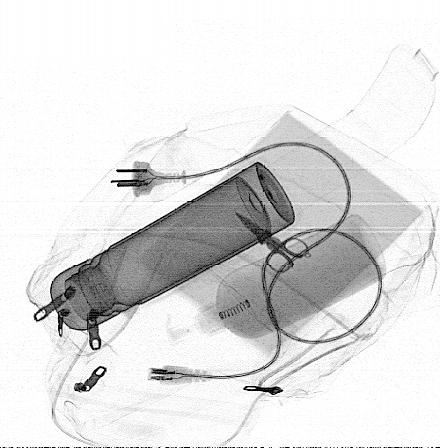Scissors: (235, 209, 309, 274)
